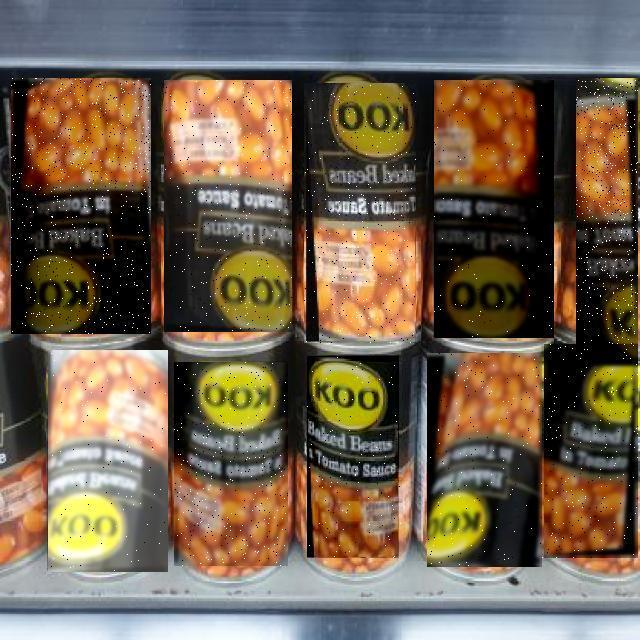Beans: (11, 78, 151, 334), (165, 80, 293, 332), (434, 80, 554, 338), (304, 83, 416, 343), (49, 351, 169, 573), (428, 353, 544, 567), (174, 362, 288, 566), (544, 344, 638, 558), (308, 356, 402, 558), (577, 79, 639, 367)
